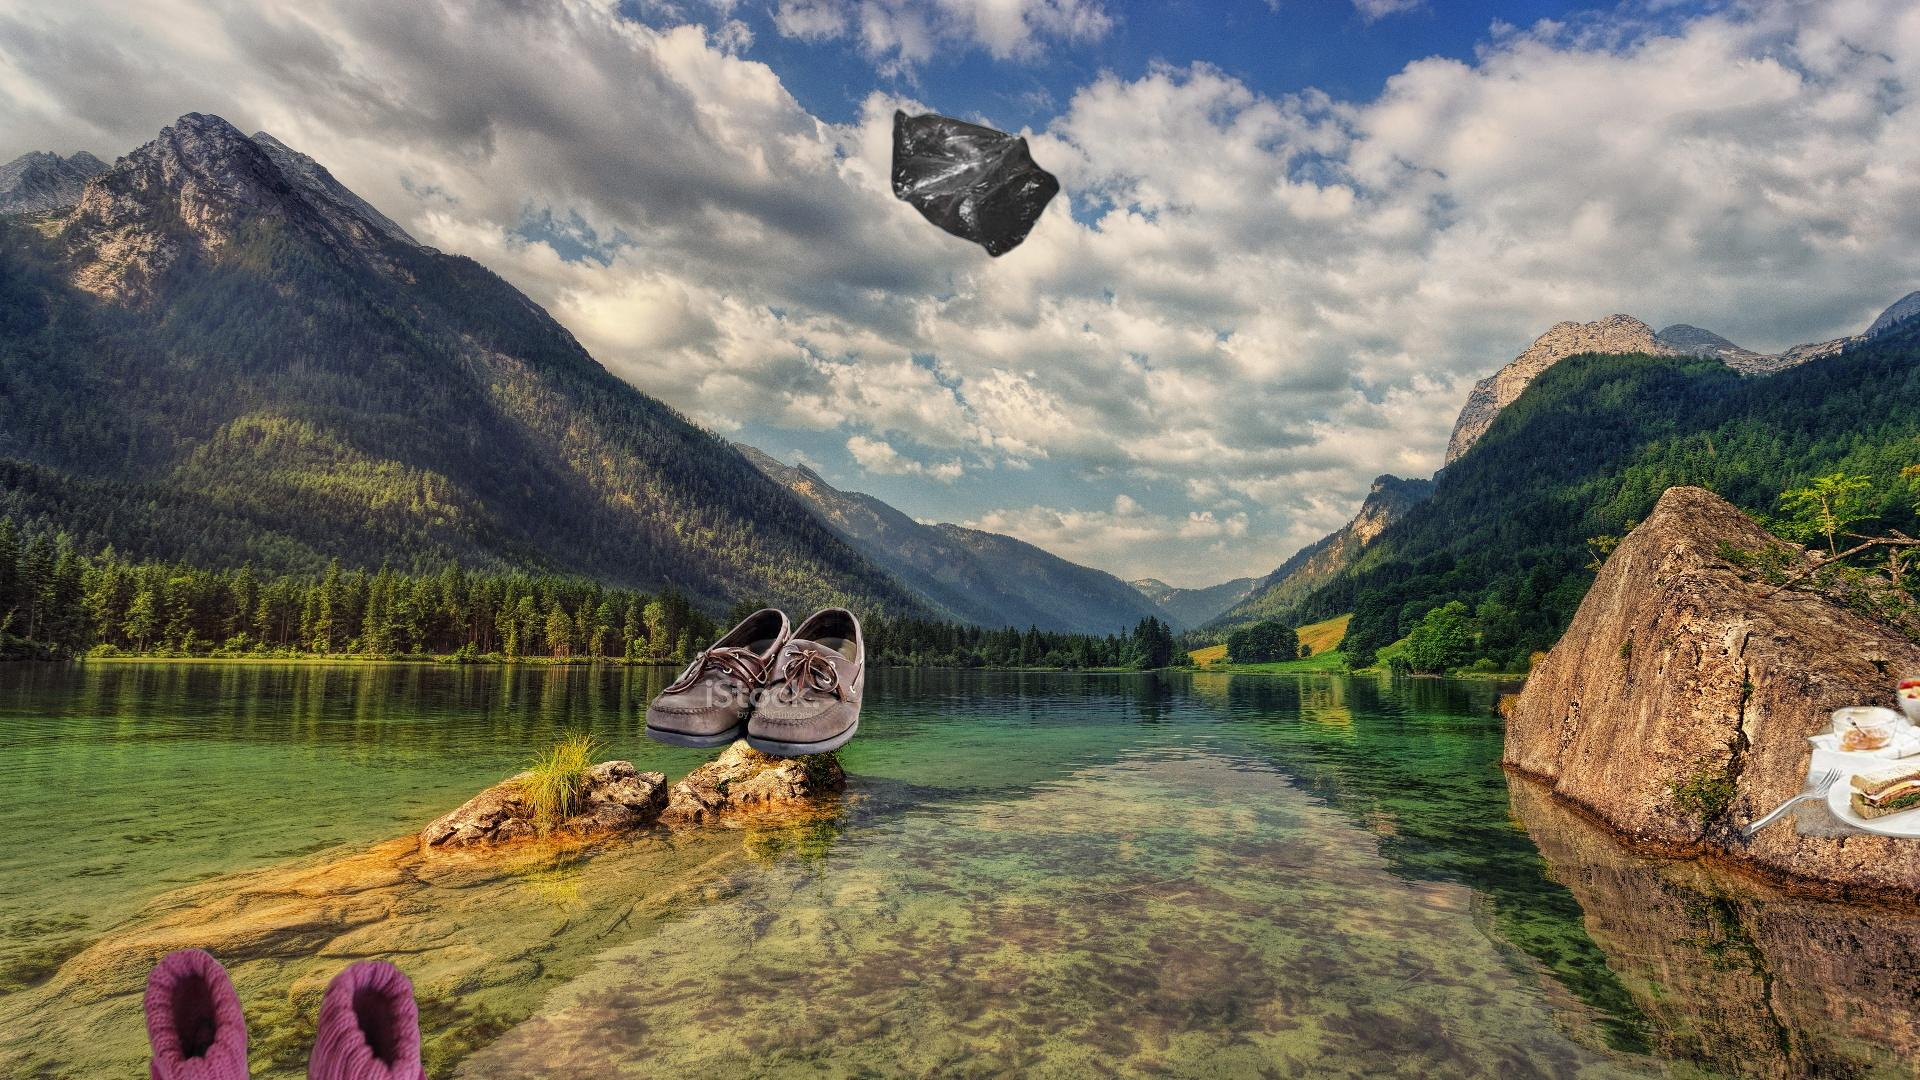biological: (1701, 669, 1920, 866)
plastic-bag: (887, 107, 1062, 258)
shoes: (138, 943, 433, 1080), (641, 604, 868, 758)
